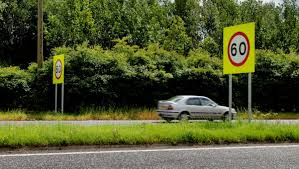Speed_limit_60km: (226, 31, 252, 67)
